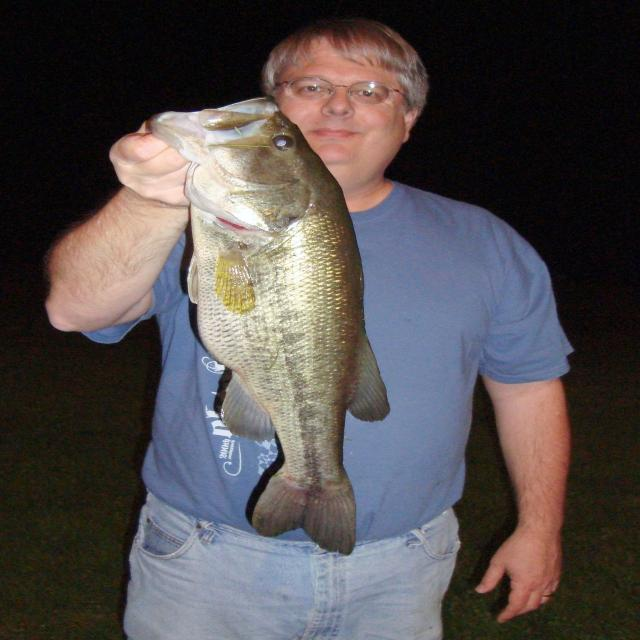Bass - Largemouth: (148, 98, 389, 554)
